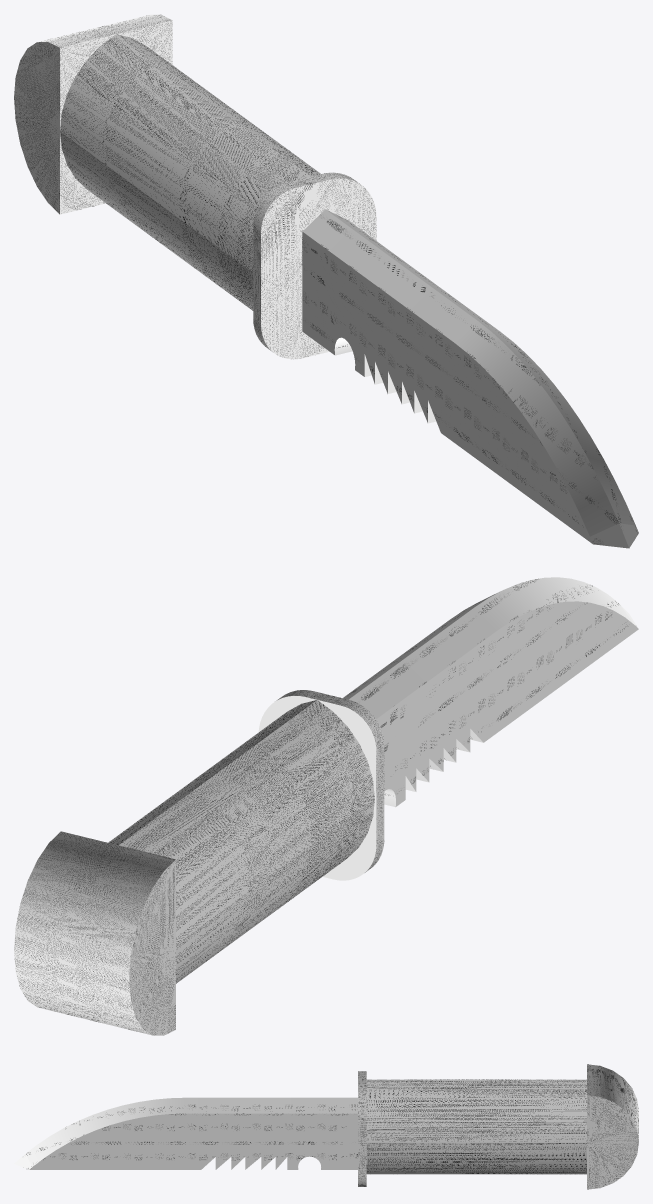
File: model_align.obj
The picture shows the model from 3 angles, top to bottom: view 1: azimuth 30°, elevation 25°; view 2: azimuth 150°, elevation 25°; view 3: azimuth 270°, elevation 25°; orthographic projection. The views are drawn at different scales.
Parts seen in each view (by area): view 1: mesh2_mesh2-geometry, mesh1_mesh1-geometry; view 2: mesh1_mesh1-geometry, mesh2_mesh2-geometry; view 3: mesh1_mesh1-geometry, mesh2_mesh2-geometry.
Part boxes in pixels (x1,y1,x2,y2): mesh2_mesh2-geometry: (253,172,638,548); mesh1_mesh1-geometry: (14,14,320,310); mesh1_mesh1-geometry: (14,700,374,1035); mesh2_mesh2-geometry: (258,577,638,880); mesh1_mesh1-geometry: (366,1064,638,1189); mesh2_mesh2-geometry: (14,1071,366,1186).
Size of the model in its own units: 0.0245 by 0.0348 by 0.2027.
